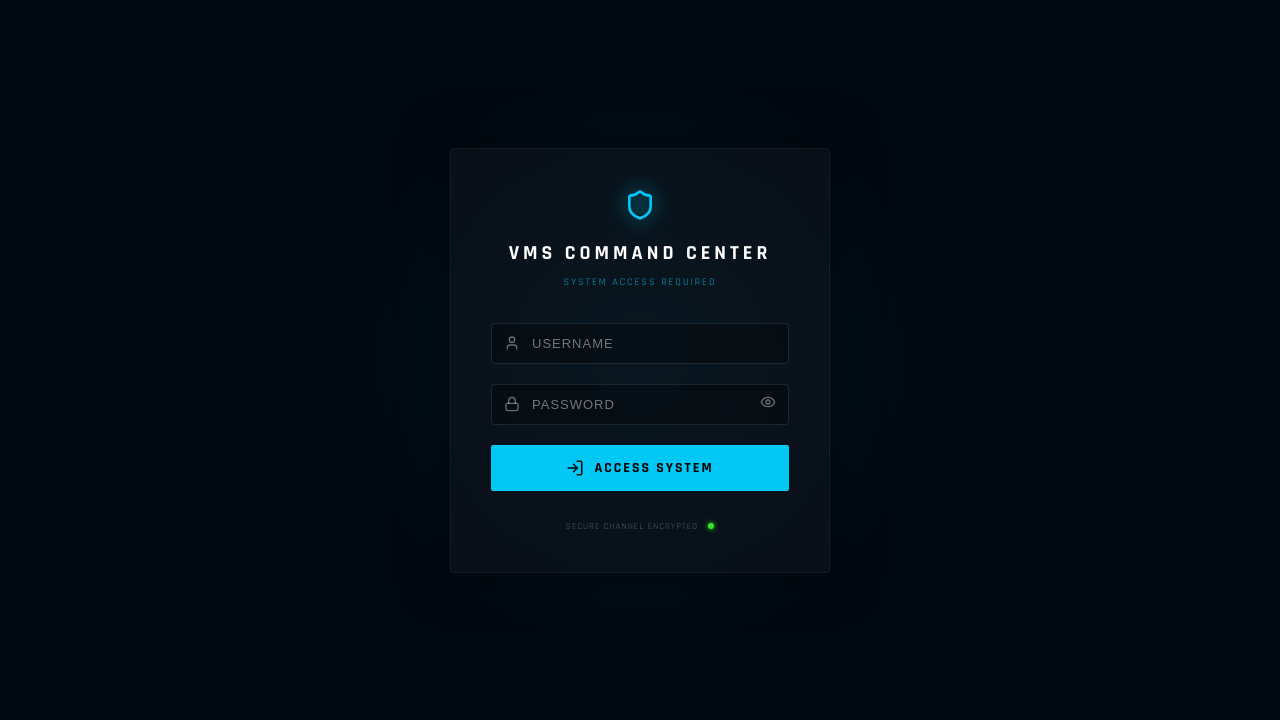
Test: LoginView › network error surfaces backend-unreachable message
The width and height of the screenshot is (1280, 720).
In the field with placeholder "USERNAME": (640, 343) [492, 324, 788, 362], type "admin"
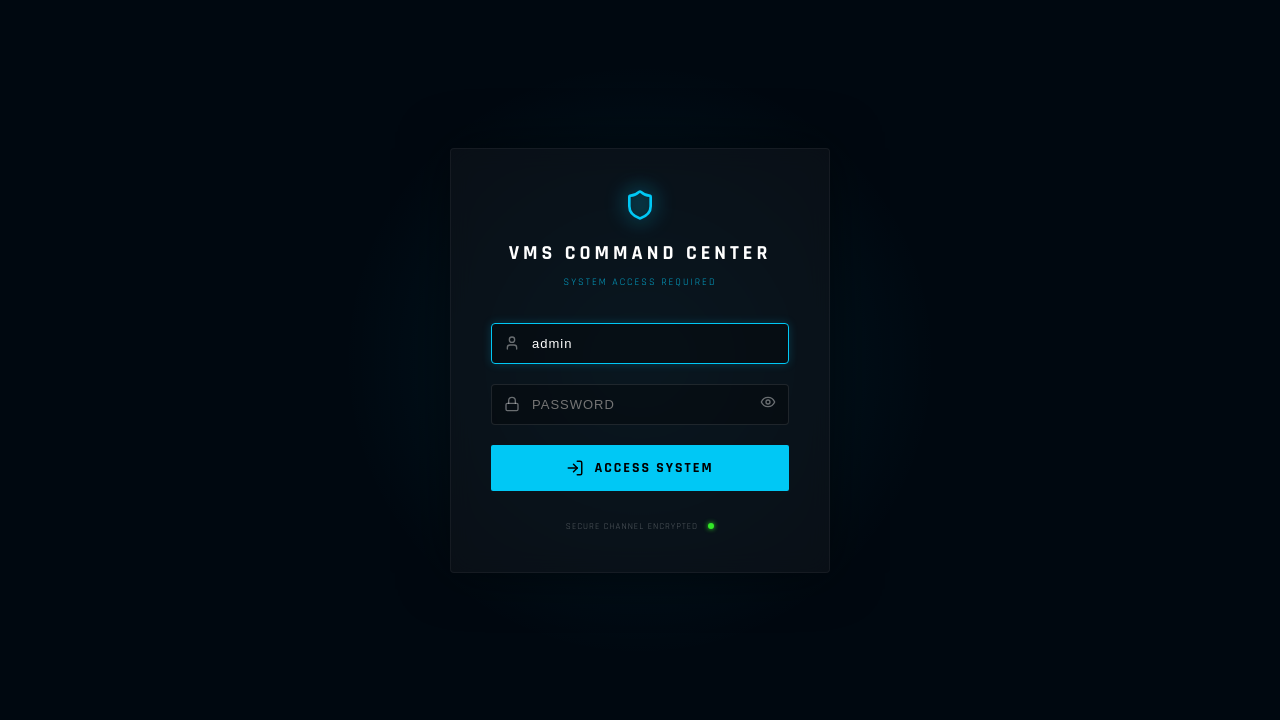
In the password field with placeholder "PASSWORD": (640, 404) [492, 384, 788, 424], type "pwd"
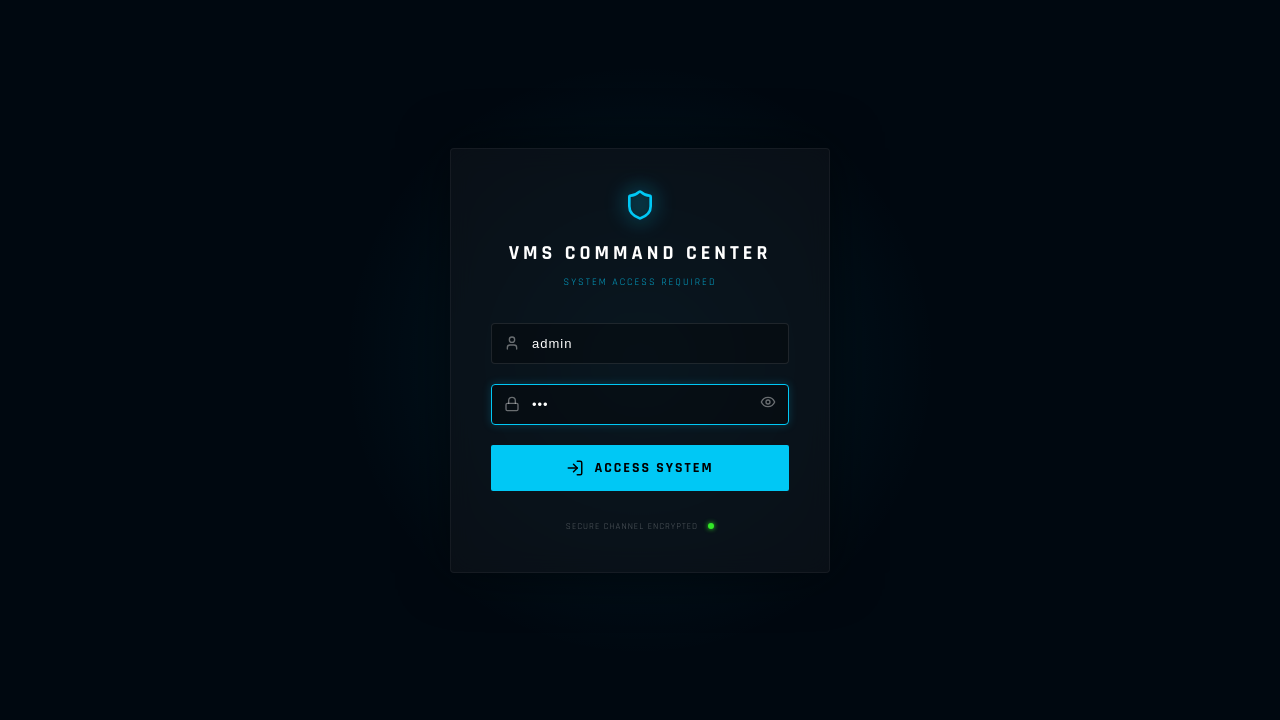
Click the button "ACCESS SYSTEM": (640, 468) [491, 444, 789, 490]
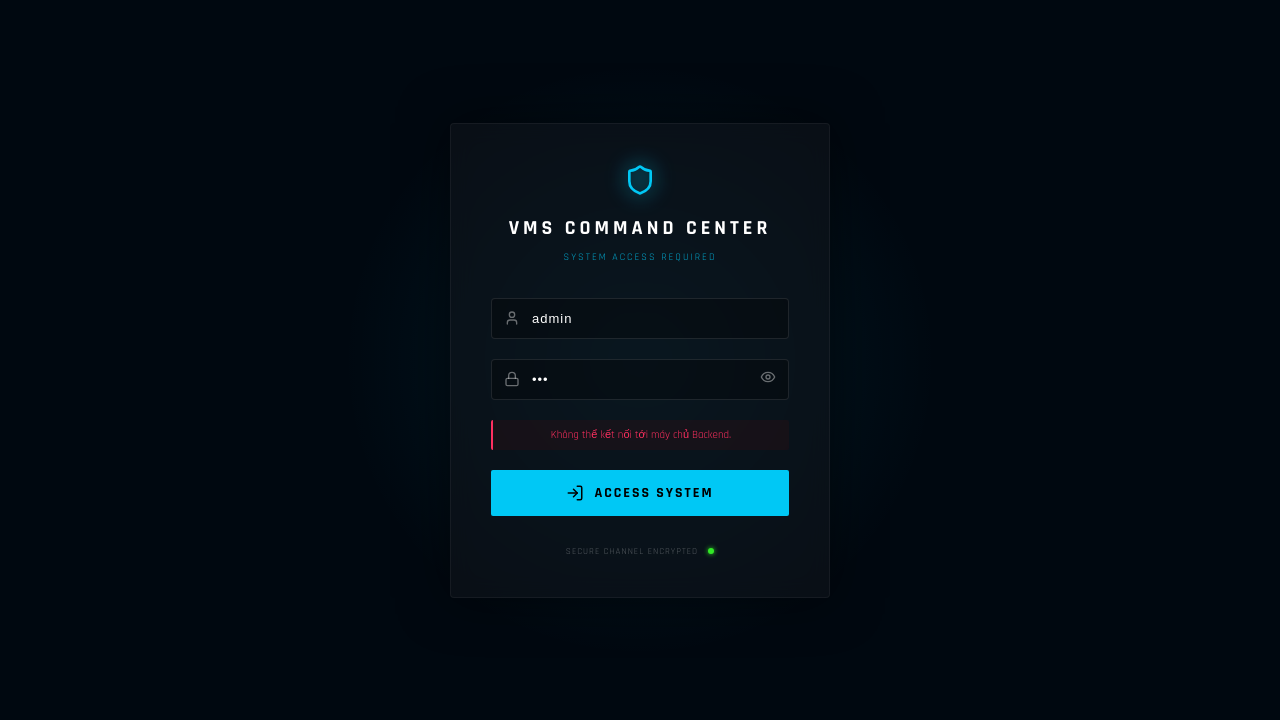
Expected: the text "Không thể kết nối tới máy chủ Backend." is shown, [491, 420, 789, 450]
